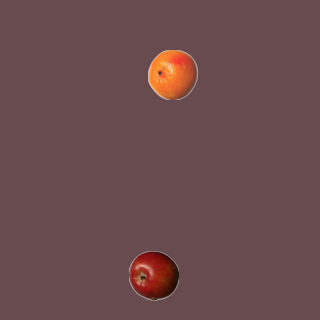Apple Braeburn: (128, 250, 178, 300)
Grapefruit Pink: (147, 49, 197, 99)
